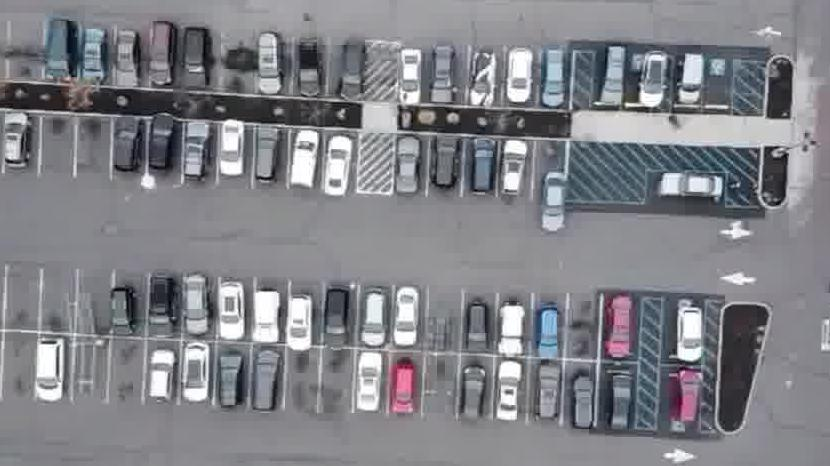car: (349, 349, 387, 416), (29, 337, 64, 407), (42, 17, 78, 82), (179, 26, 214, 91), (316, 133, 351, 198), (651, 167, 722, 199), (146, 20, 177, 89), (105, 117, 141, 176), (491, 361, 524, 425), (247, 351, 279, 417), (175, 345, 209, 407), (495, 136, 528, 199), (141, 113, 174, 176), (211, 350, 243, 413), (319, 288, 350, 353), (336, 37, 367, 101), (283, 131, 316, 191), (281, 294, 315, 352), (143, 276, 174, 339), (141, 346, 172, 409), (247, 127, 279, 188), (603, 292, 633, 357), (541, 171, 570, 236), (392, 282, 421, 347), (256, 29, 284, 96), (456, 361, 487, 421), (387, 360, 418, 420), (603, 365, 632, 429), (249, 288, 281, 346), (634, 49, 667, 105), (357, 285, 385, 351), (213, 282, 243, 343), (390, 135, 419, 197), (428, 133, 458, 192), (466, 135, 495, 196), (493, 298, 524, 355), (503, 47, 532, 107), (426, 45, 455, 105), (0, 113, 30, 171), (567, 368, 595, 430), (179, 121, 208, 180), (670, 365, 699, 424), (597, 43, 626, 101), (80, 27, 109, 85), (106, 285, 136, 341), (674, 303, 702, 362), (541, 47, 568, 108), (298, 38, 324, 101), (396, 45, 423, 105), (179, 273, 204, 337), (469, 48, 497, 105), (533, 361, 560, 420), (216, 120, 242, 181), (676, 52, 705, 105), (531, 304, 560, 357), (114, 28, 139, 89), (463, 302, 487, 355)
